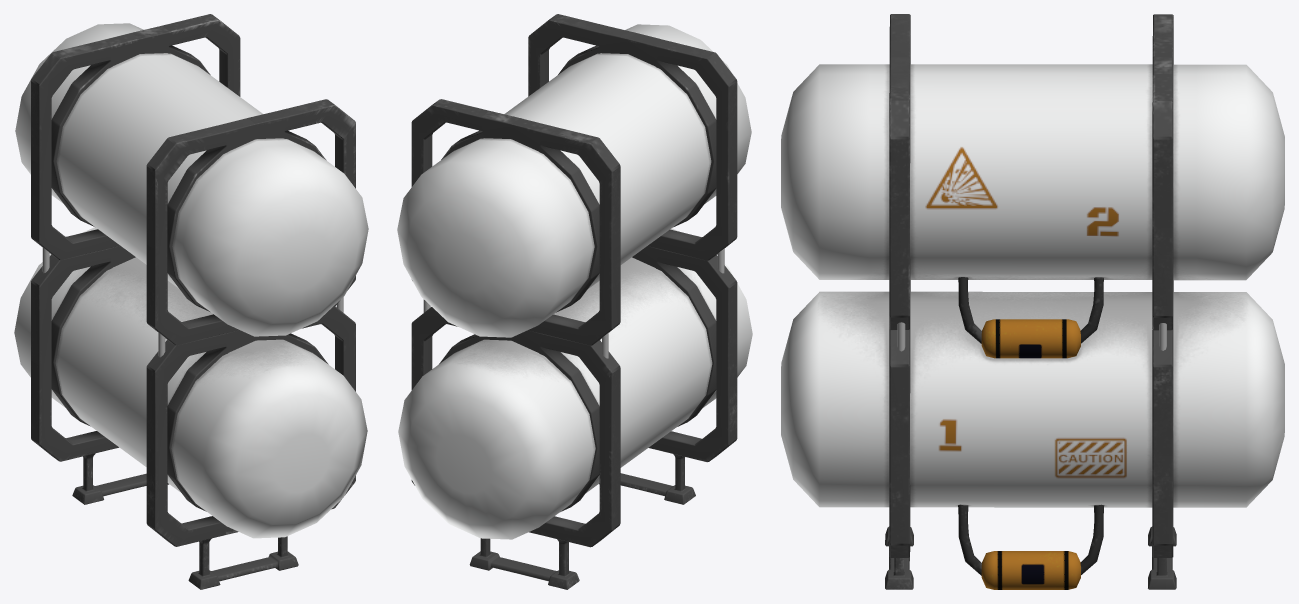
File: cuve.obj
3 views of the same model, side by side, from view 1: azimuth 30°, elevation 25°; view 2: azimuth 150°, elevation 25°; view 3: azimuth 270°, elevation 25° (orthographic). The views are drawn at different scales.
Visible parts, largest first — view 1: attache009; view 2: attache009; view 3: attache009.
Boxes of the visible parts, x1=… form: attache009: x1=14, y1=14, x2=368, y2=589; attache009: x1=397, y1=14, x2=752, y2=589; attache009: x1=781, y1=14, x2=1284, y2=589.
Size of the model in its own units: 1.73 by 3.7 by 3.31.
Materials: 1 (1 with a texture image).
